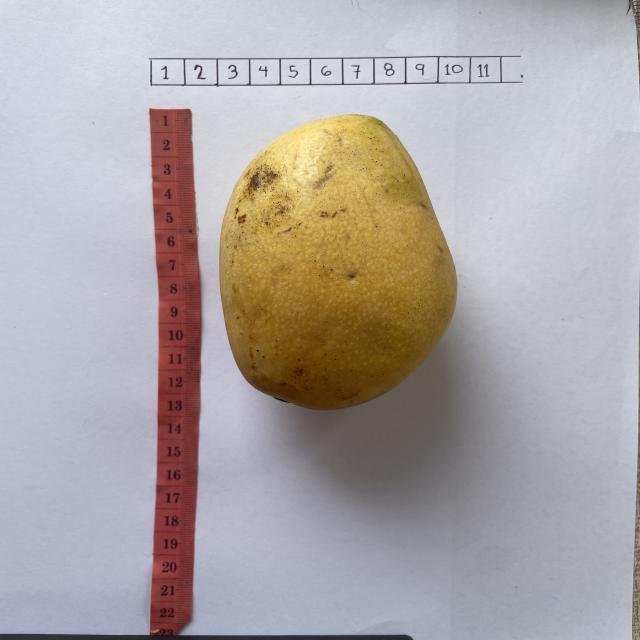Ripe: (219, 114, 458, 413)
